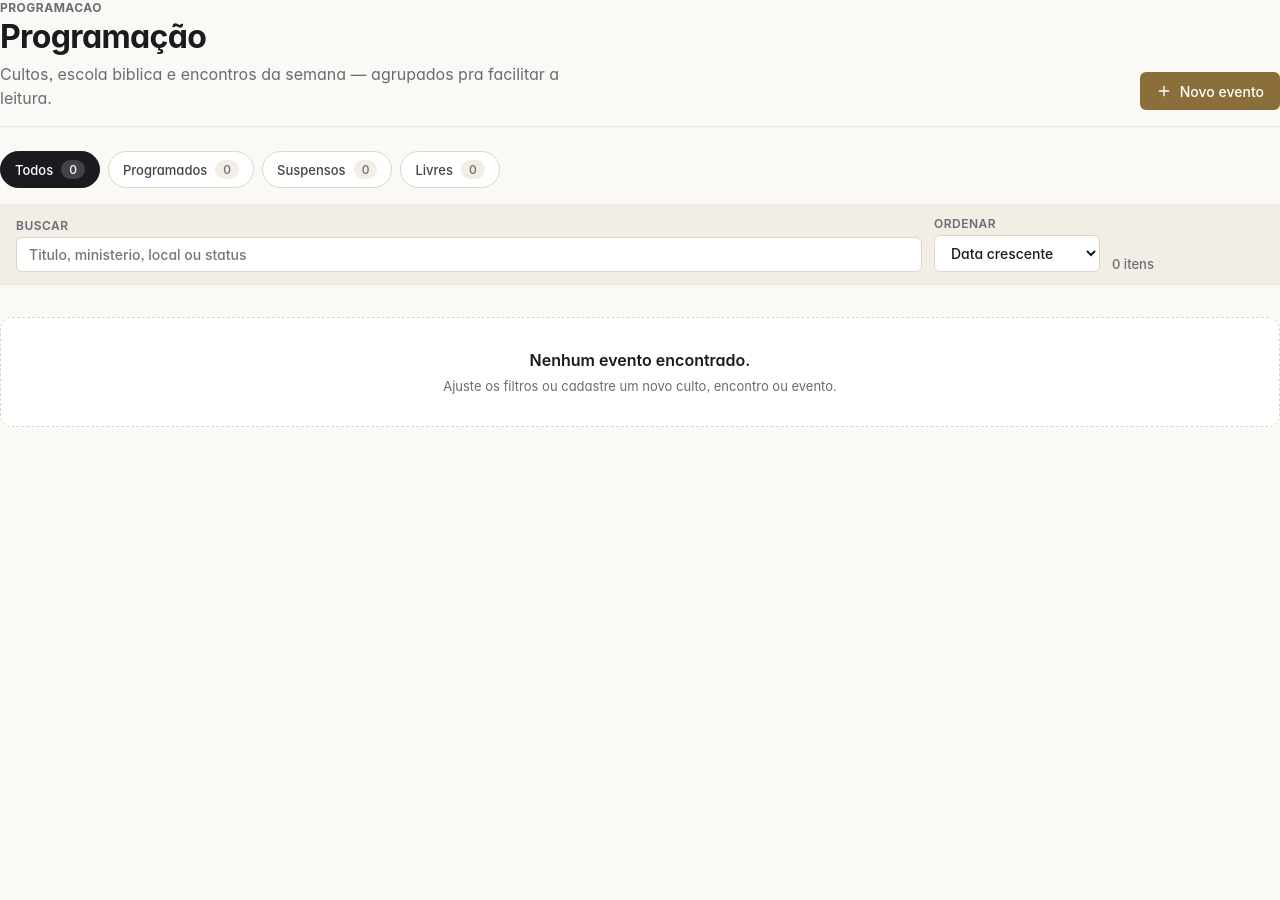
Test case: ScheduleView form › submits the form when all required fields are valid
The image size is (1280, 900).
Click the button "Novo evento" at (1210, 91), box [1140,72,1279,110]
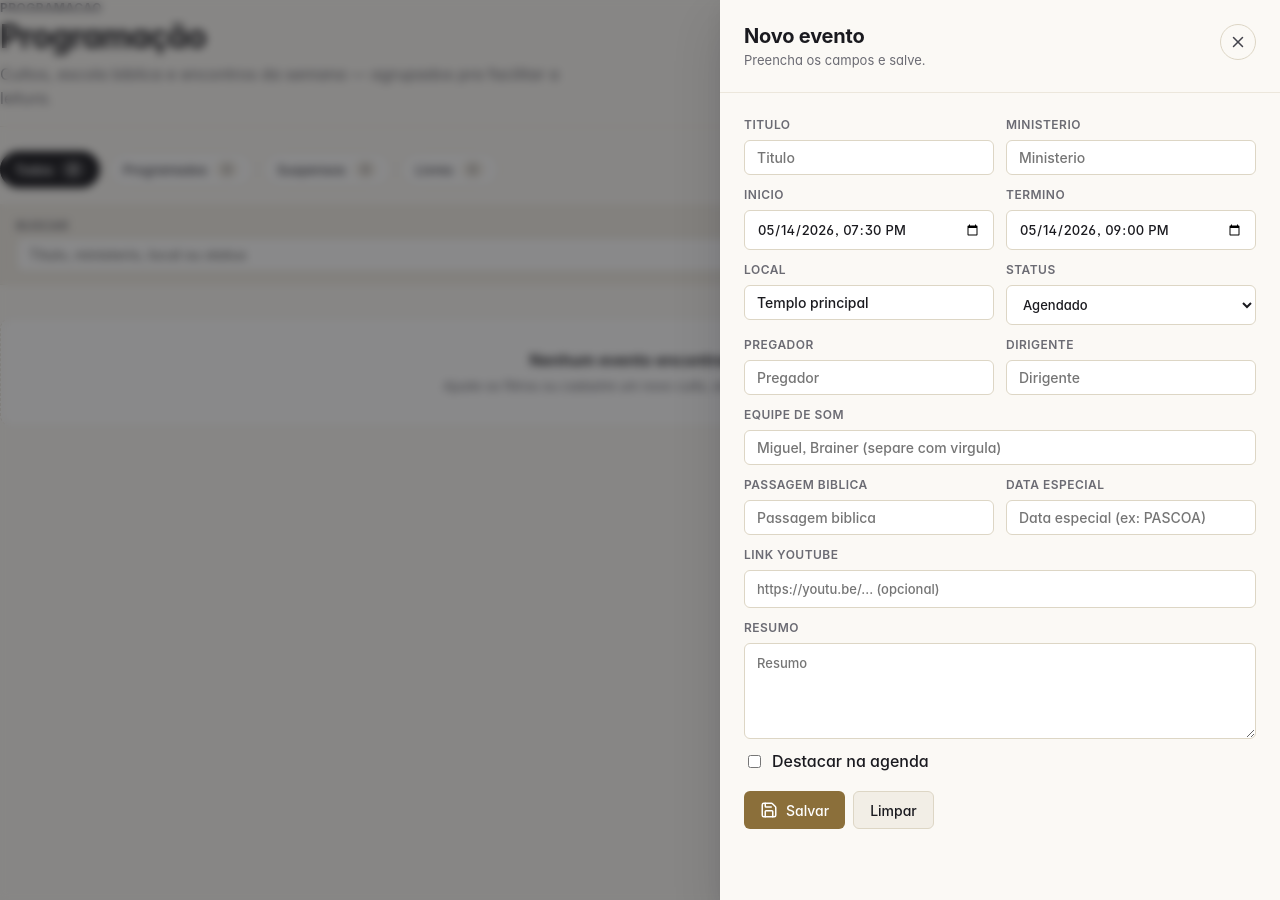
Type "Culto solene" into the field labelled "Titulo" at (869, 158), box [744,140,994,175]
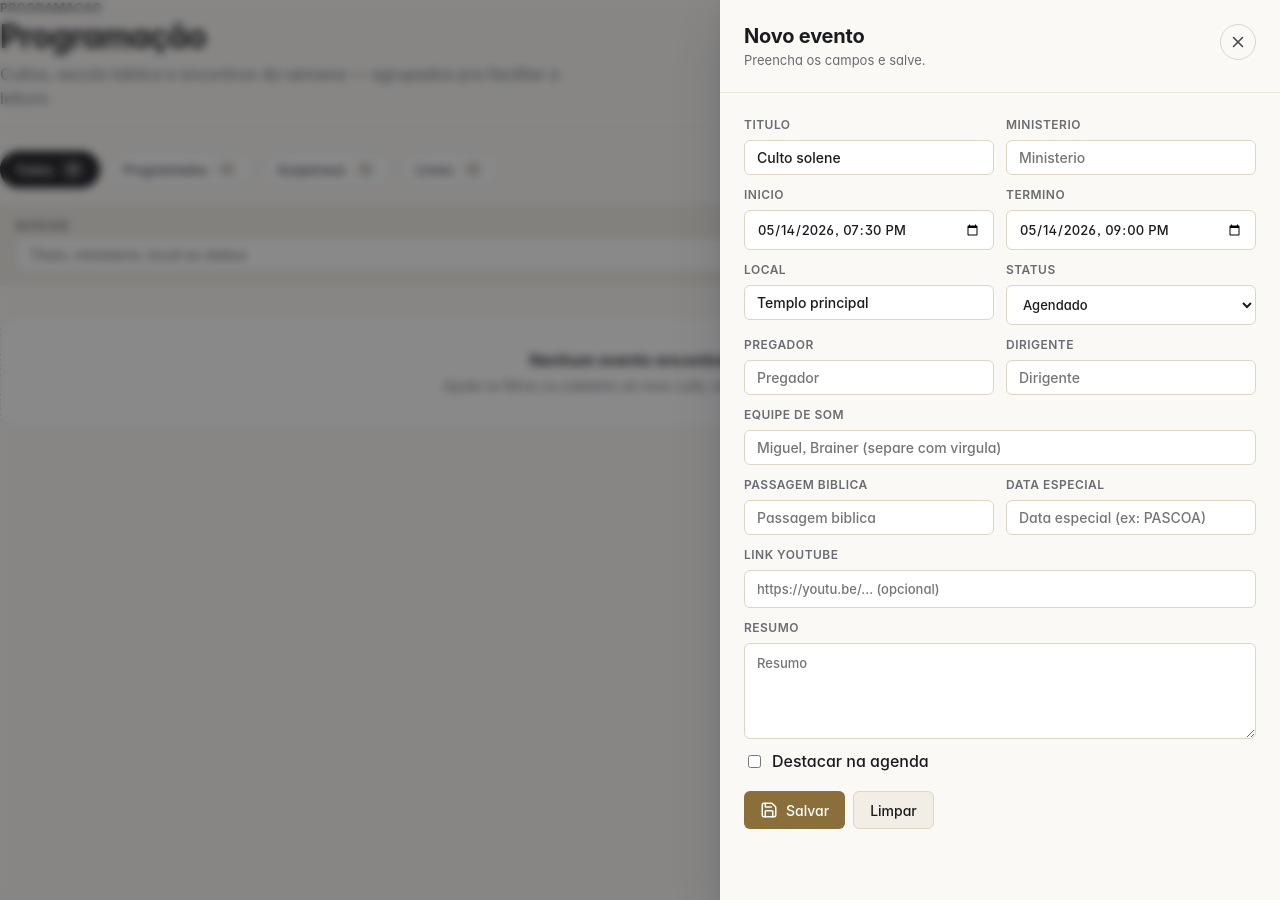
Type "Louvor" into the field labelled "Ministerio" at (1131, 158), box [1006,140,1256,175]
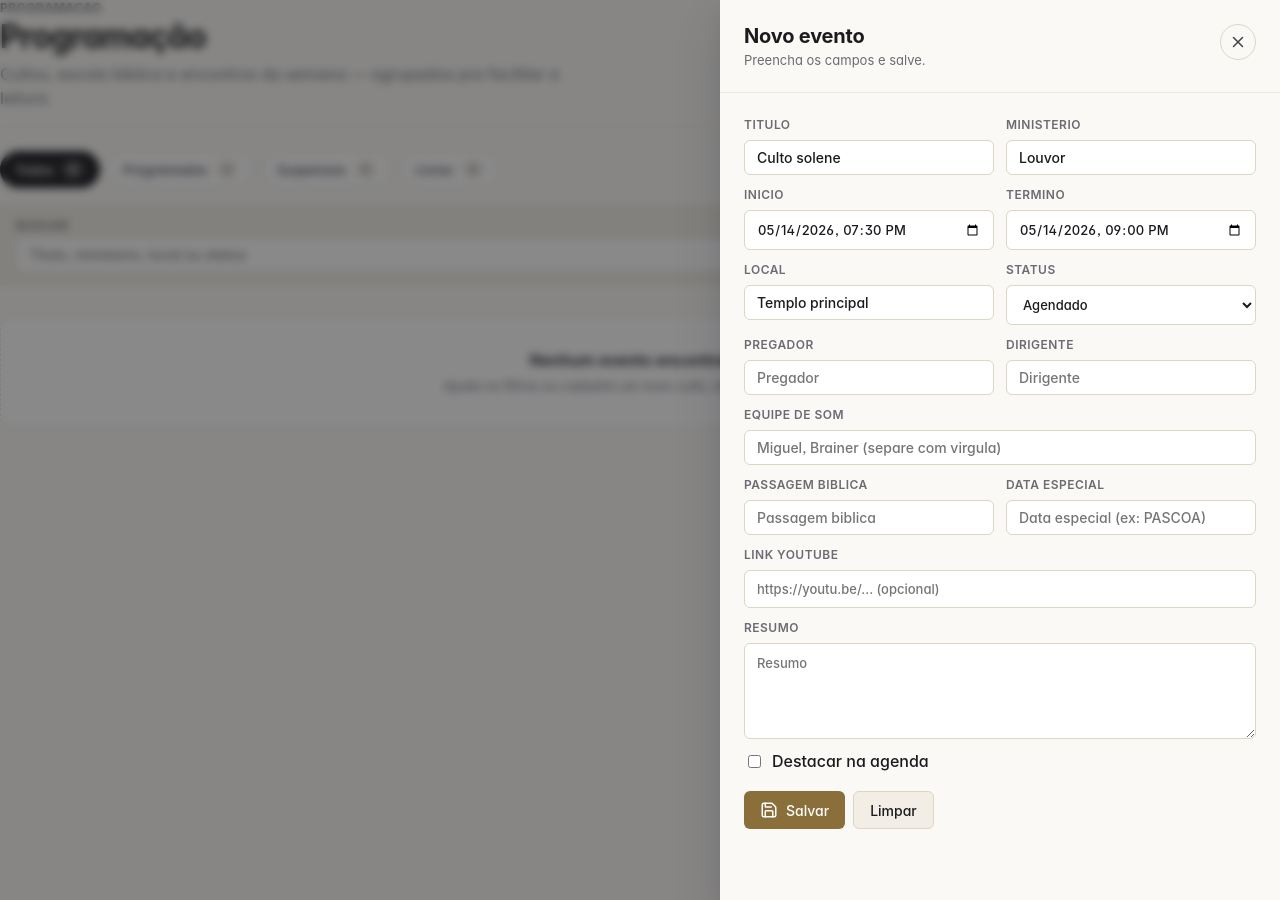
Type "Miguel, Brainer" into the field labelled "Equipe de som" at (1000, 448), box [744,430,1256,465]
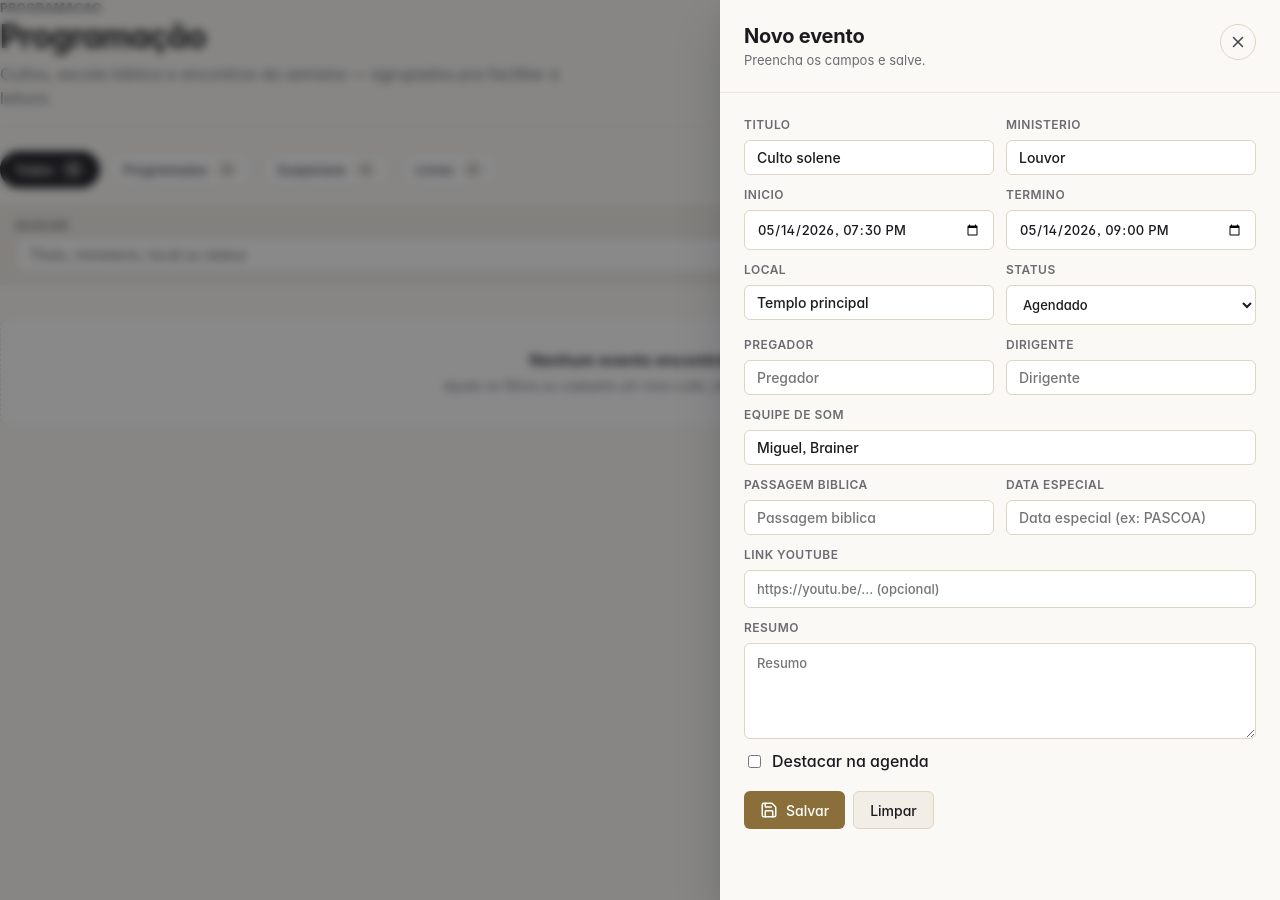
Submit the form named "salvar", box [744,117,1256,829]
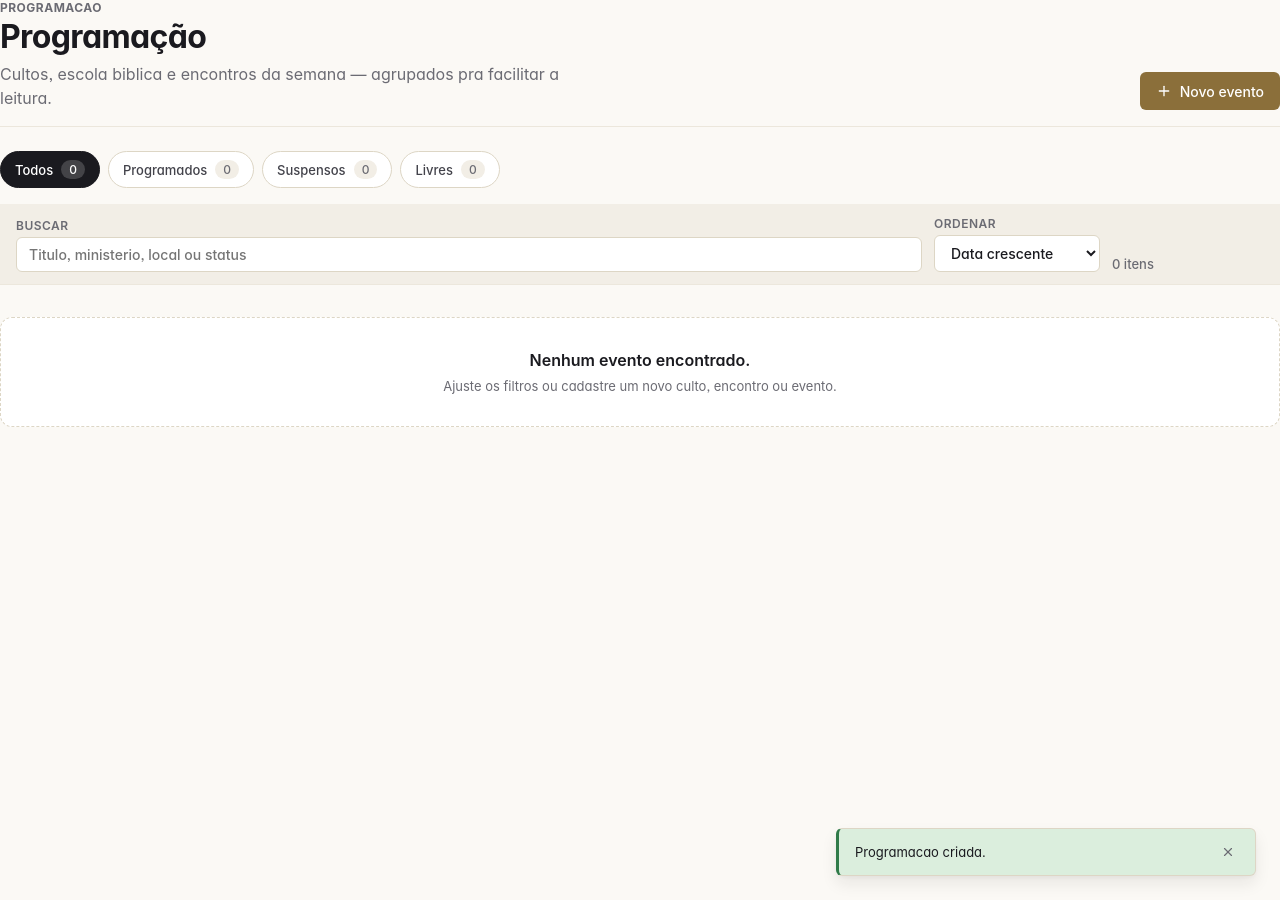
Now the text "Programacao criada." is shown, box [855,844,986,860]
